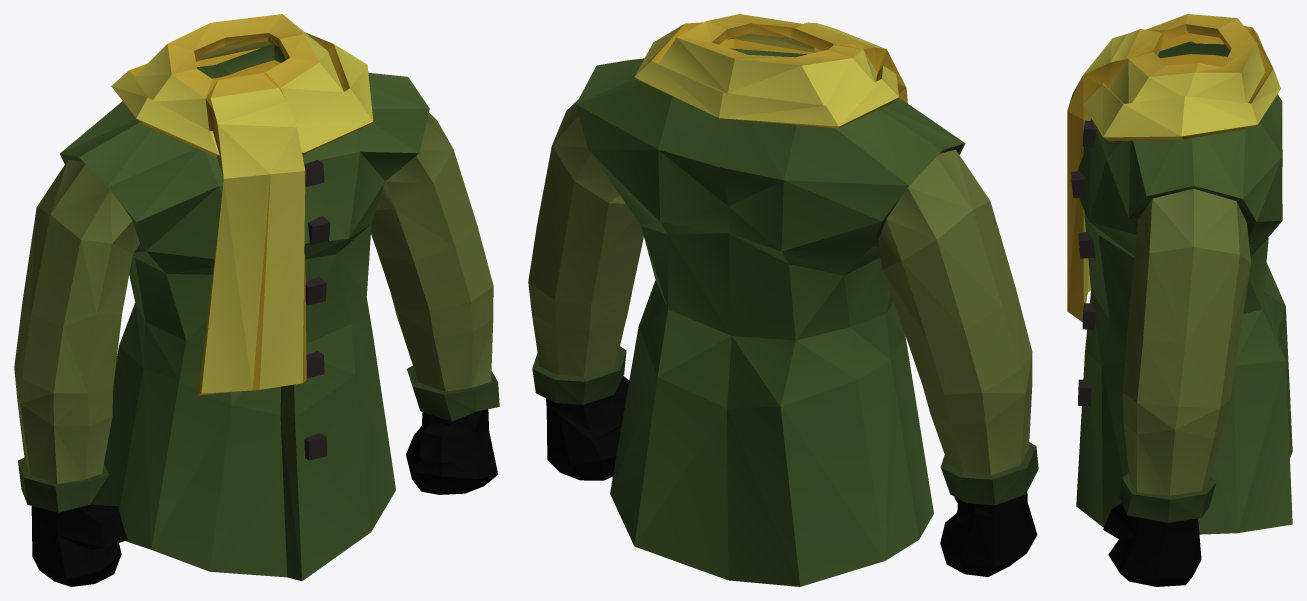
The model's file is RareGreenRobe.dae.
The picture shows the model from 3 angles, left to right: view 1: azimuth 30°, elevation 25°; view 2: azimuth 150°, elevation 25°; view 3: azimuth 270°, elevation 25°; orthographic projection. The views are drawn at different scales.
Parts seen in each view (by area): view 1: Chestplate; view 2: Chestplate; view 3: Chestplate.
Part boxes in pixels (box(x1,y1,x2,y2)): Chestplate: box(14, 14, 499, 586); Chestplate: box(528, 14, 1038, 586); Chestplate: box(1067, 14, 1292, 586).
Size of the model in its own units: 5.2 by 2.28 by 5.21.
